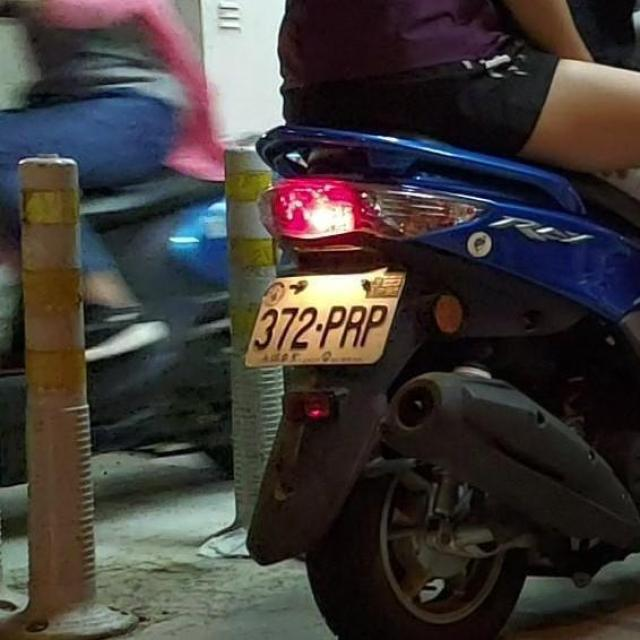W: (236, 251, 412, 384)
